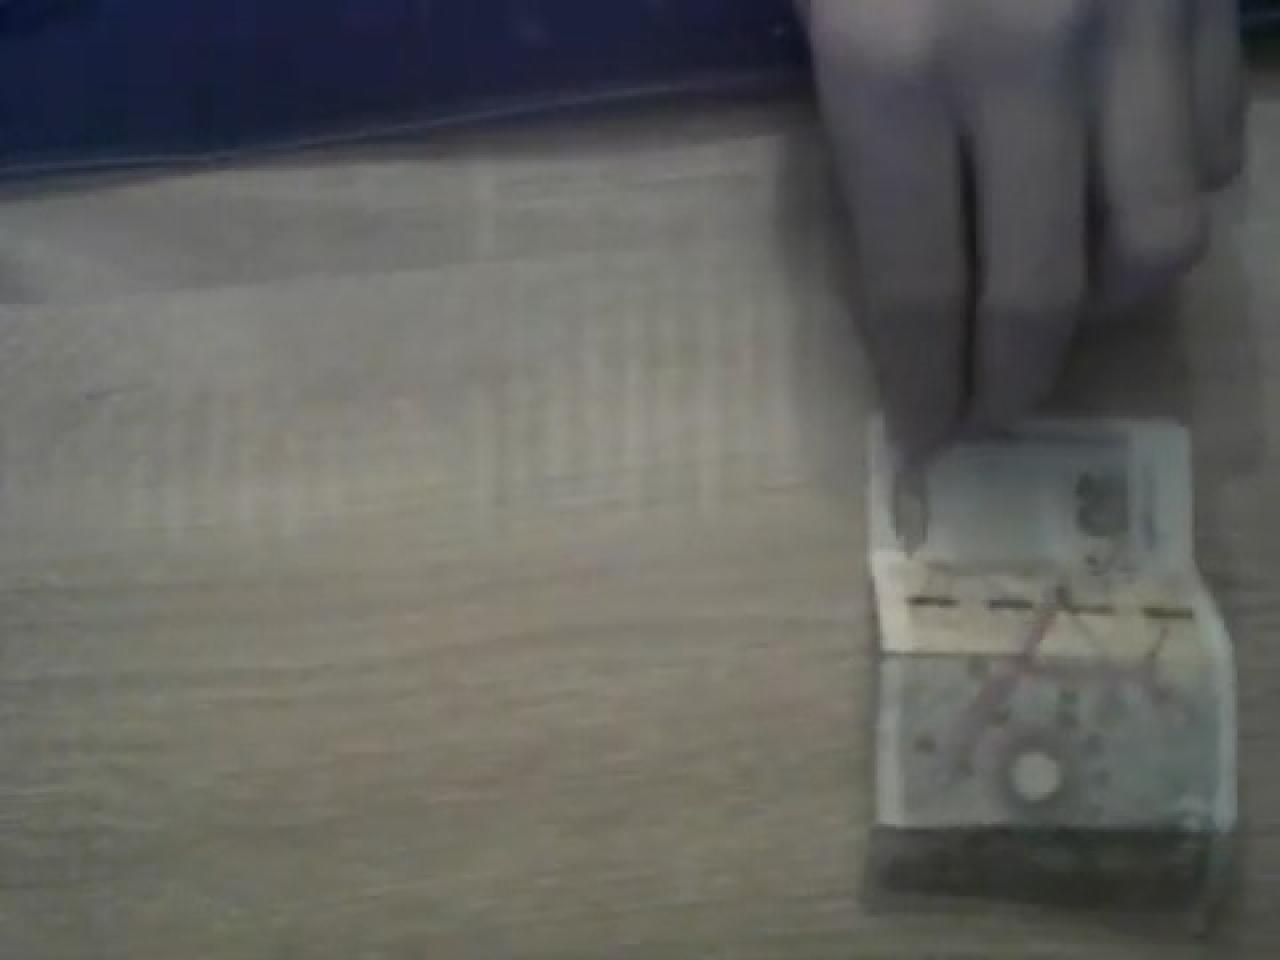10leva: (867, 408, 1240, 915)
